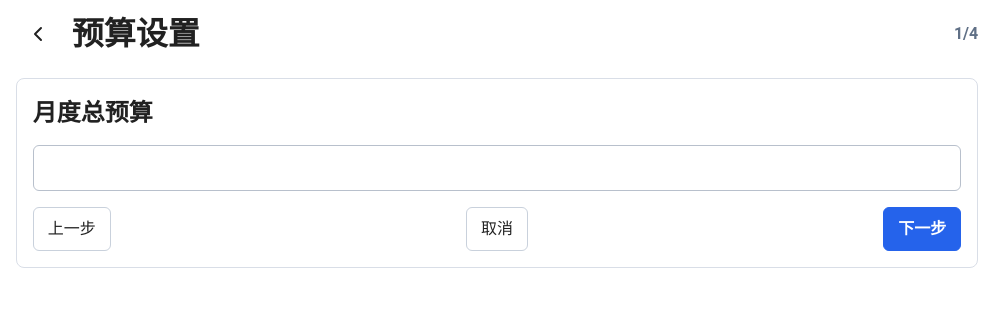
Test case: BudgetWizard › starts monthly budget empty and validates non-positive values
Type "0" into the number field at (497, 168), box [33,145,961,191]
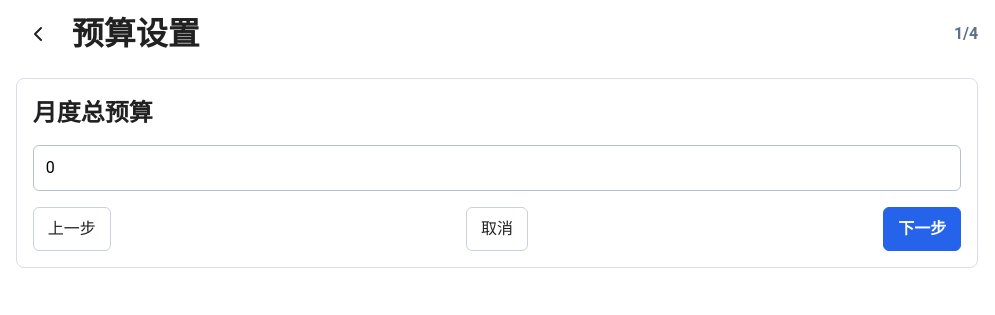
Focus the number field at (497, 168), box [33,145,961,191]
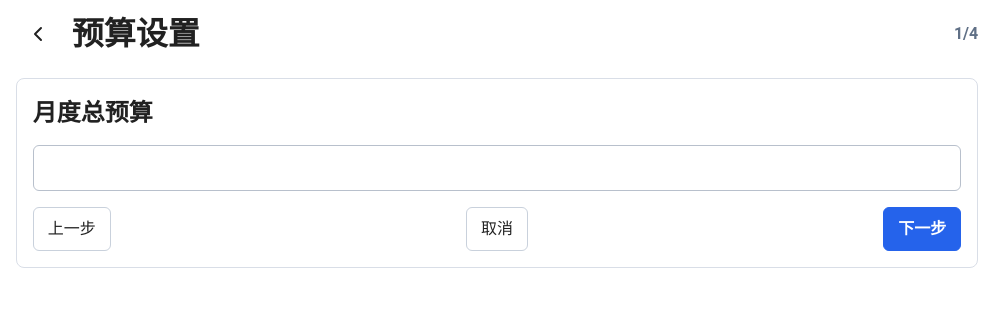
Expected: the number field is empty
Type "-1" into the number field at (497, 168), box [33,145,961,191]
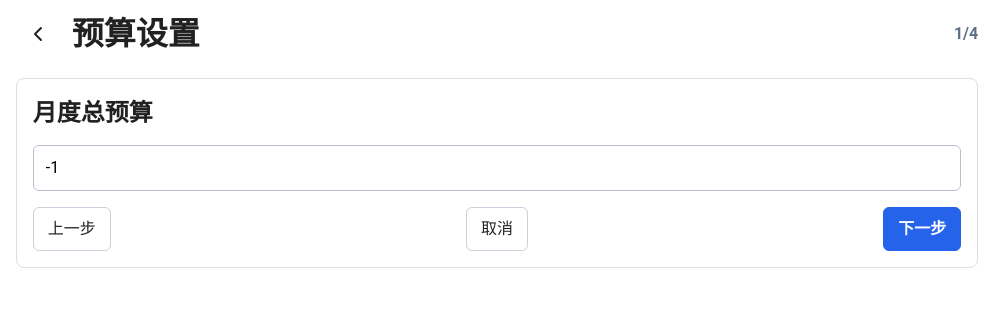
Leave the number field, box [33,145,961,191]
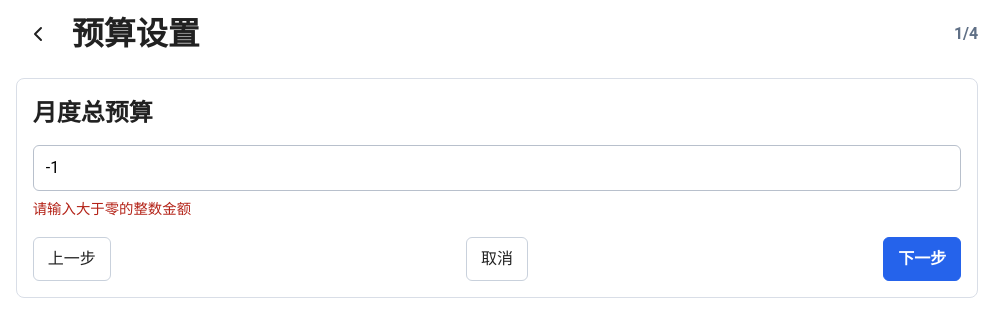
Expected: the text "请输入大于零的整数金额" is shown, [33,201,191,218]
